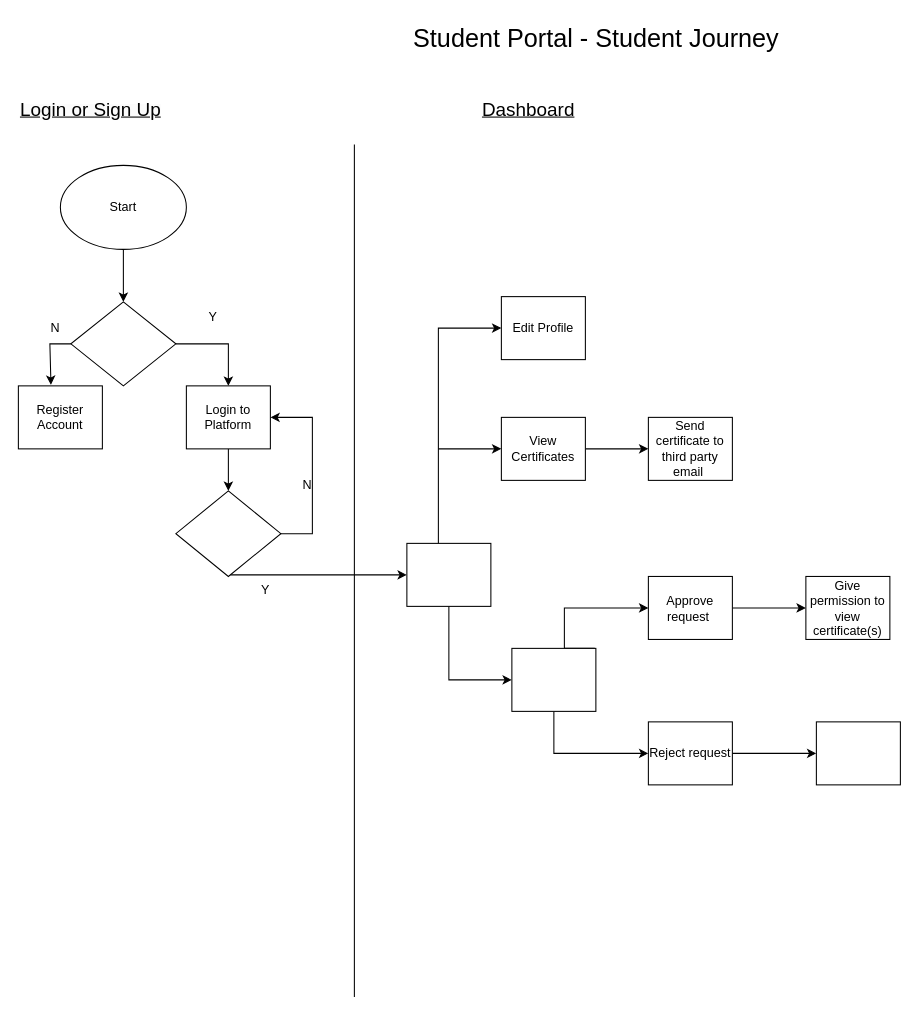
This 919x1016 diagram has some shape labels left out. Each missing label, with the box of its shape:
Give reason for rejection: (815, 721, 900, 785)
Is Student Registered: (70, 301, 176, 386)
Login Info Correct: (175, 490, 281, 576)
View connection requests: (511, 647, 596, 711)
View Dashboard: (406, 542, 491, 606)
